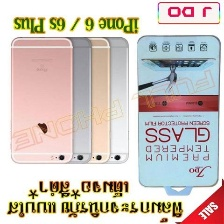book: (133, 32, 223, 193)
phone: (21, 36, 94, 164), (7, 36, 76, 166), (78, 35, 132, 165), (58, 36, 111, 165)
